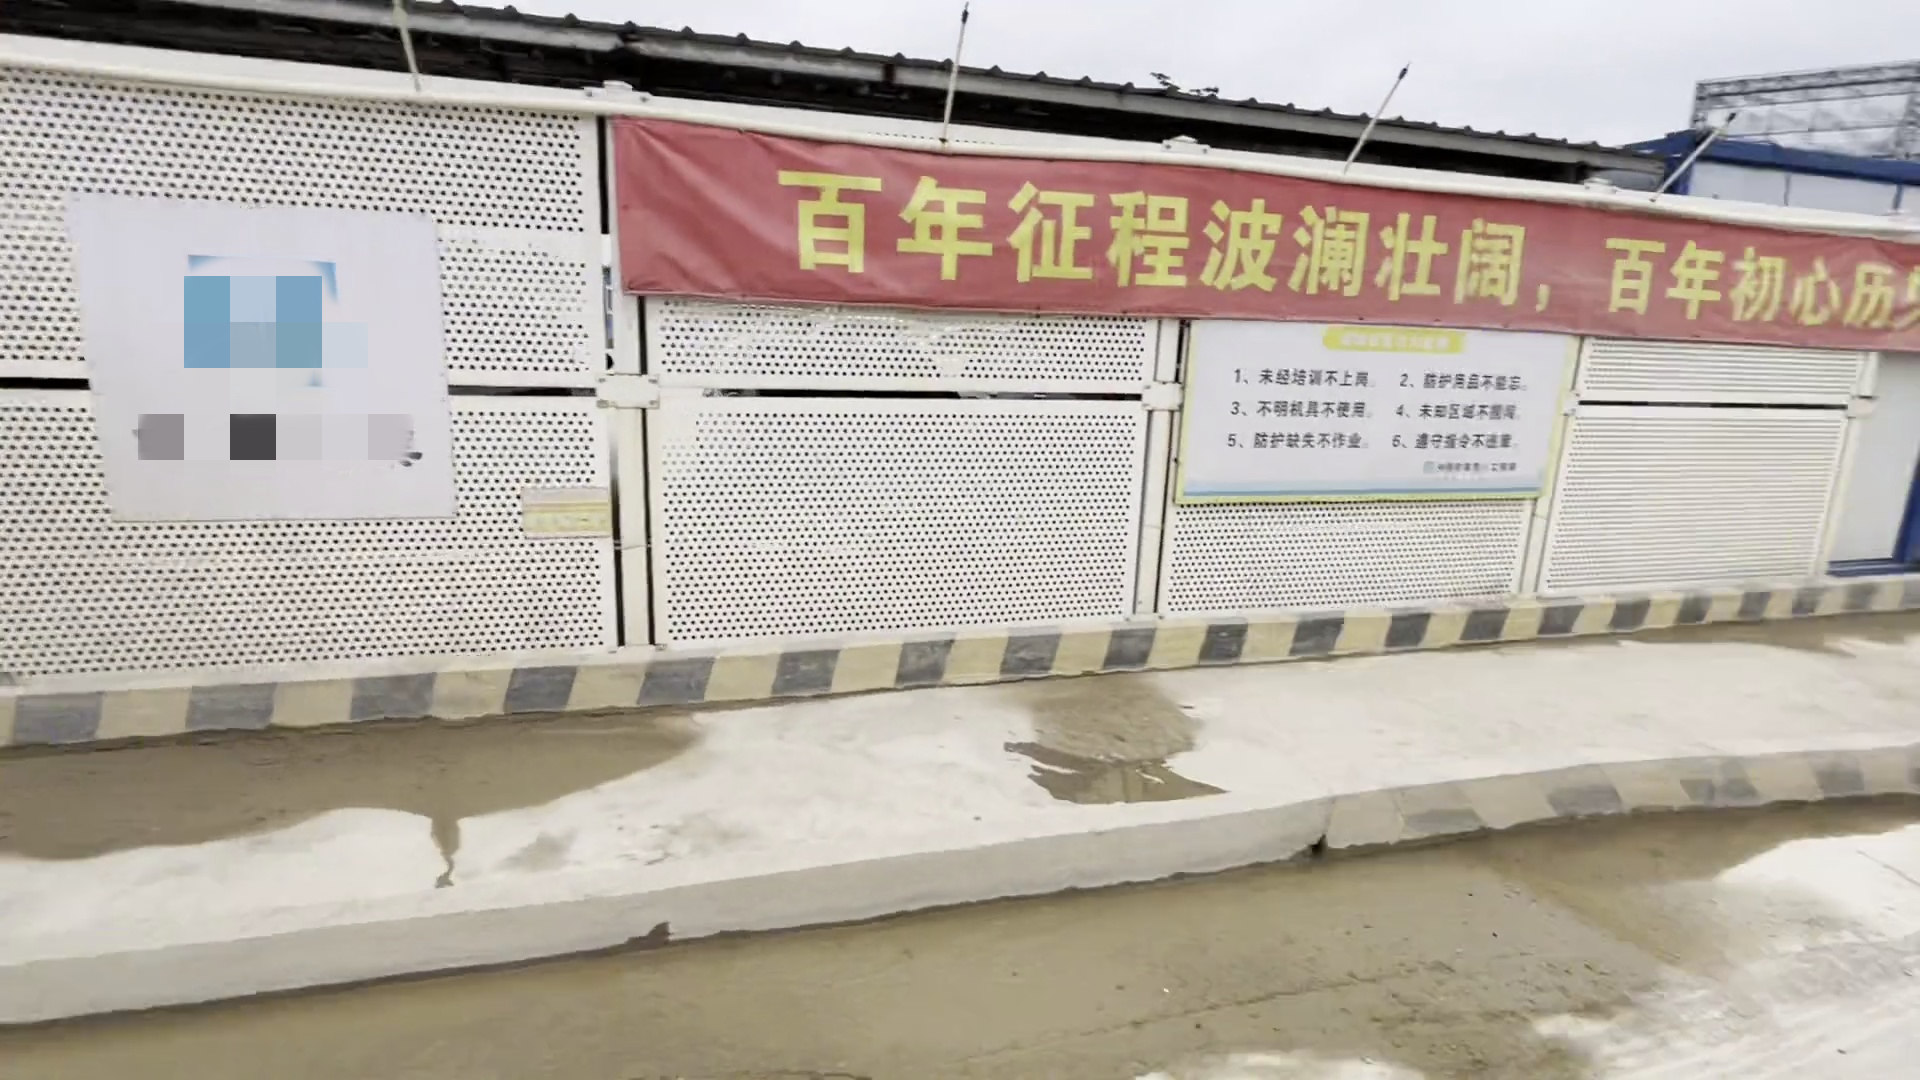slogan: (611, 116, 1915, 360), (1182, 320, 1540, 506)
